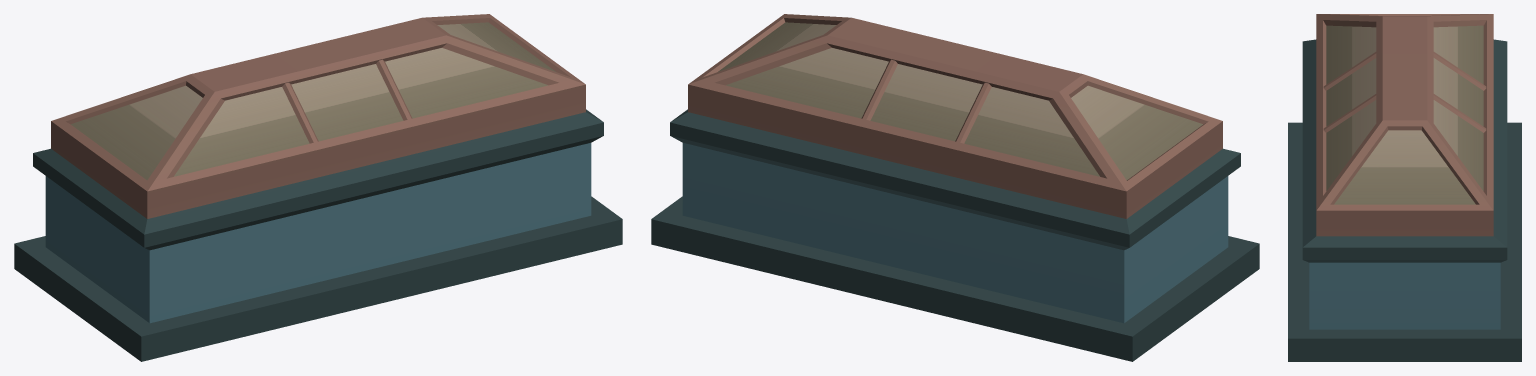
File: RoofLights_2_C.fbx
3 views of the same model, side by side, from view 1: azimuth 30°, elevation 25°; view 2: azimuth 150°, elevation 25°; view 3: azimuth 270°, elevation 25° (orthographic). The views are drawn at different scales.
Visible parts, largest first — view 1: RoofLights_2_C; view 2: RoofLights_2_C; view 3: RoofLights_2_C.
Part boxes in pixels (box(x1,y1,x2,y2)): RoofLights_2_C: box(14, 14, 622, 361); RoofLights_2_C: box(651, 14, 1259, 361); RoofLights_2_C: box(1288, 14, 1521, 361).
Bounding box in the file's own units: 216 × 86.65 × 98.88.
